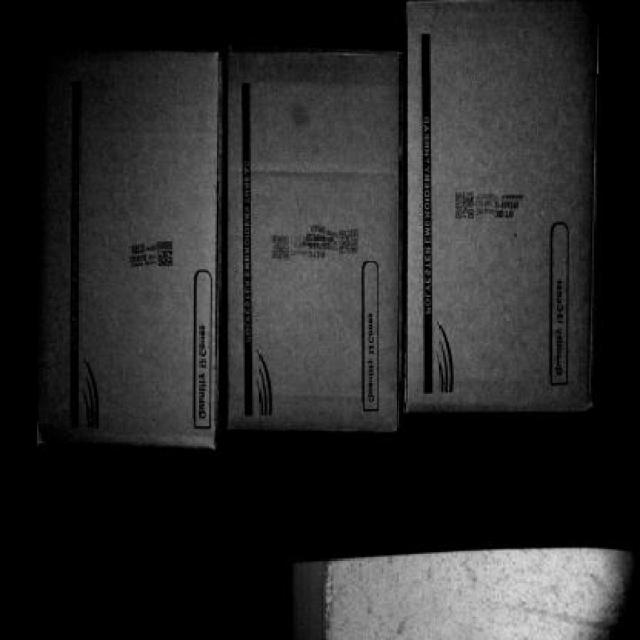cardboxes: (406, 2, 594, 416), (27, 49, 218, 445), (220, 44, 402, 442)
